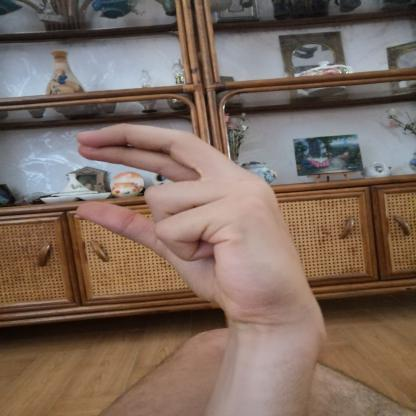DHELL: (61, 115, 323, 322)
